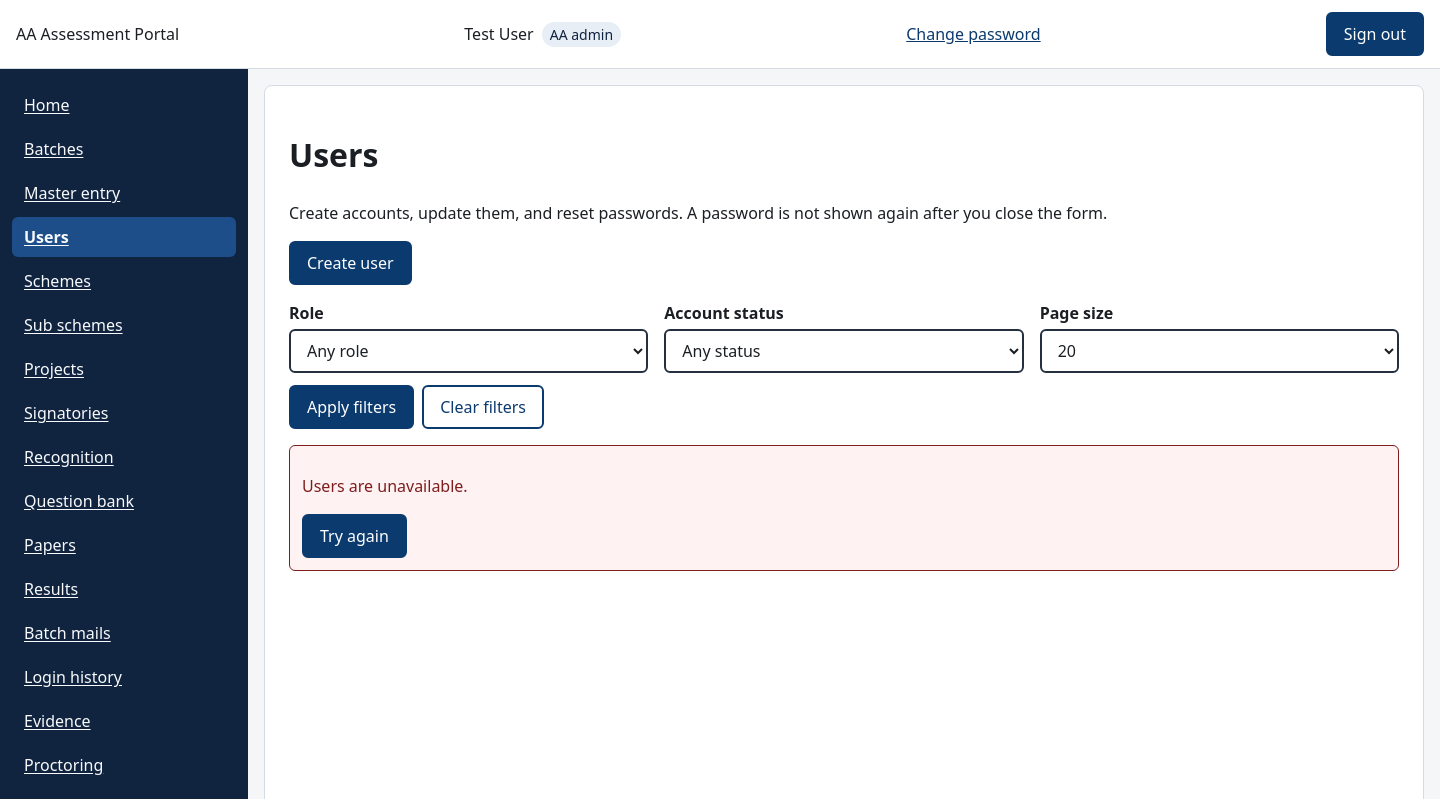
announces a load failure and retries
Expected: the message shows "Users are unavailable.", [302,475,468,497]
What coordinates should you click on to do the following:
click the button "Try again"
I would click on:
 (354, 536)
Its box is [302,514,407,558].
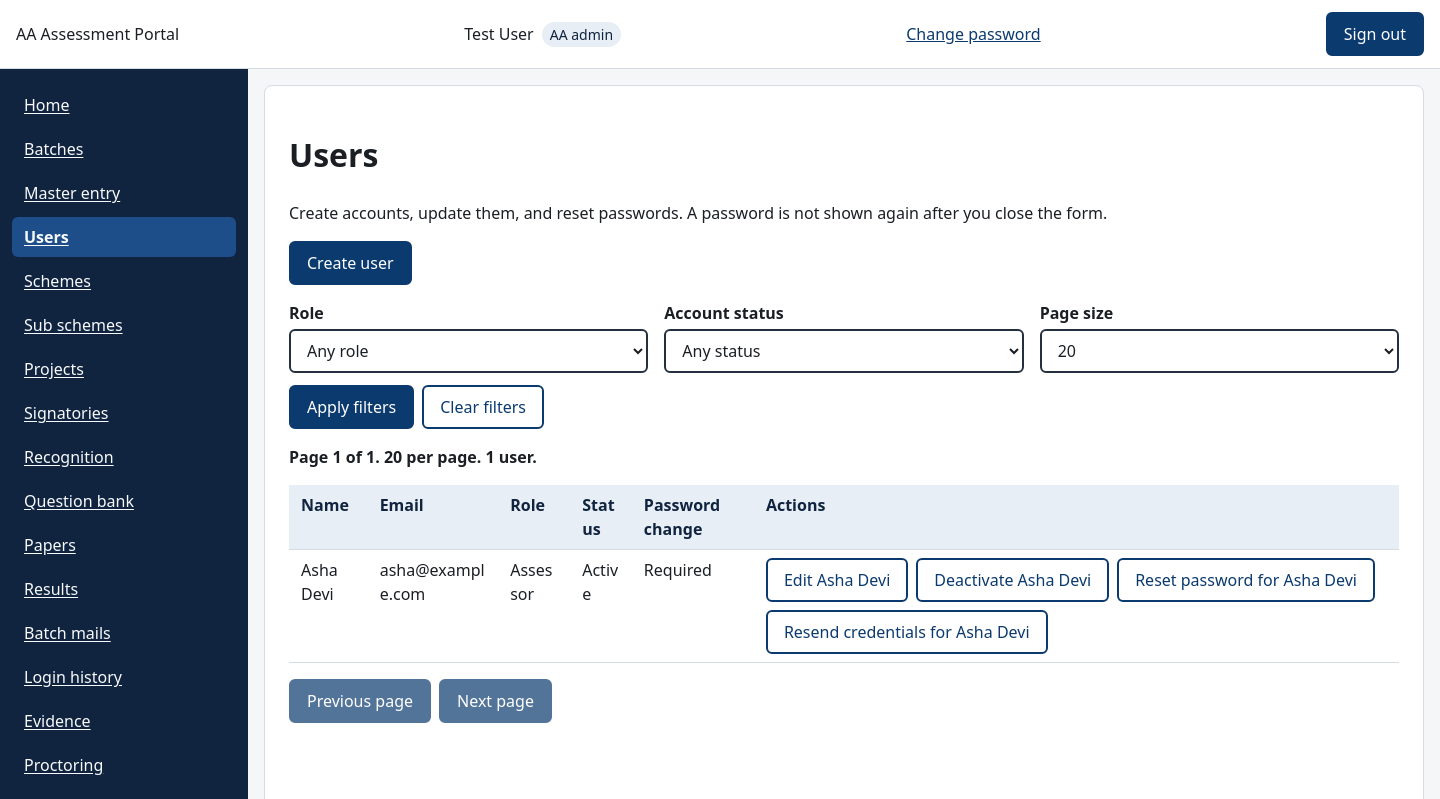
Expected: the cell "Asha Devi" is shown, [289,550,368,662]
